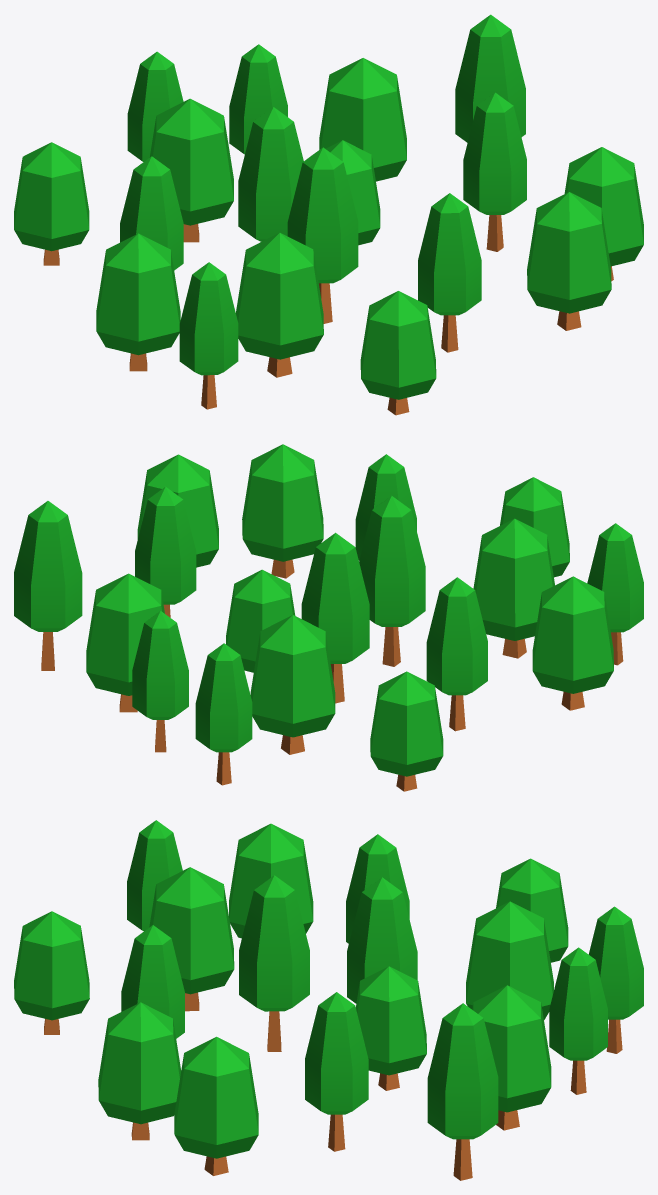
The model's file is flatForestTemperate.fbx.
The picture shows the model from 3 angles, top to bottom: view 1: azimuth 30°, elevation 25°; view 2: azimuth 150°, elevation 25°; view 3: azimuth 270°, elevation 25°; orthographic projection. The views are drawn at different scales.
Visible parts, largest first — view 1: Forest_Export; view 2: Forest_Export; view 3: Forest_Export.
Boxes of the visible parts, <box> form: Forest_Export: <box>14,14,643,415</box>; Forest_Export: <box>14,444,643,791</box>; Forest_Export: <box>14,820,643,1180</box>.
Size of the model in its own units: 164 by 52.39 by 172.
